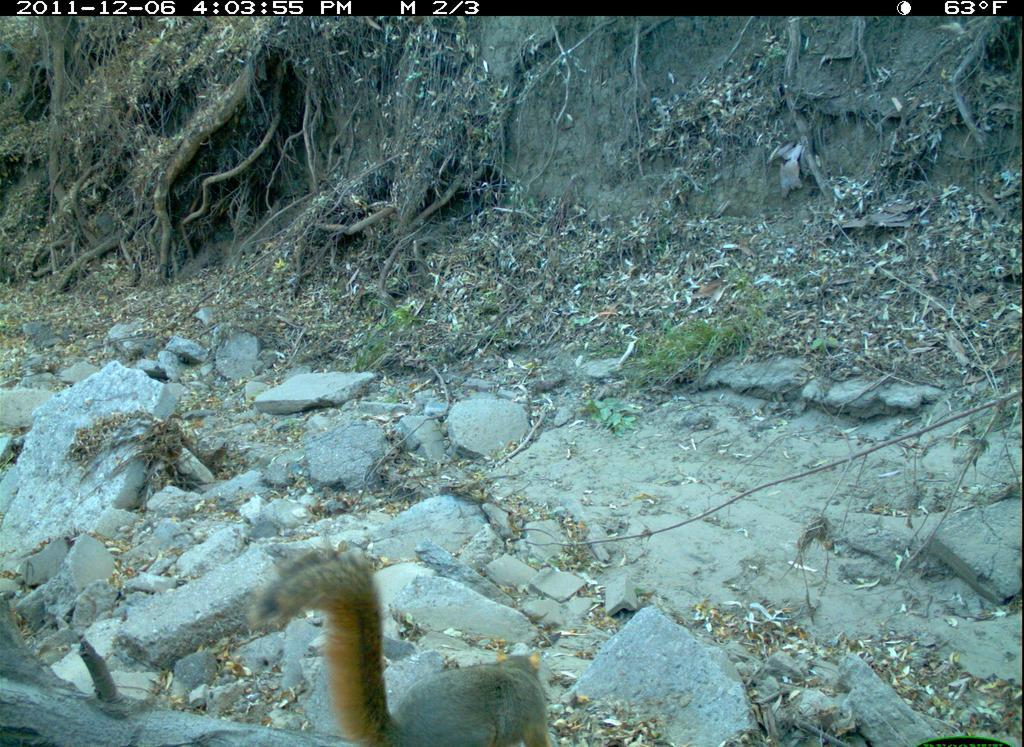squirrel: (250, 547, 562, 747)
